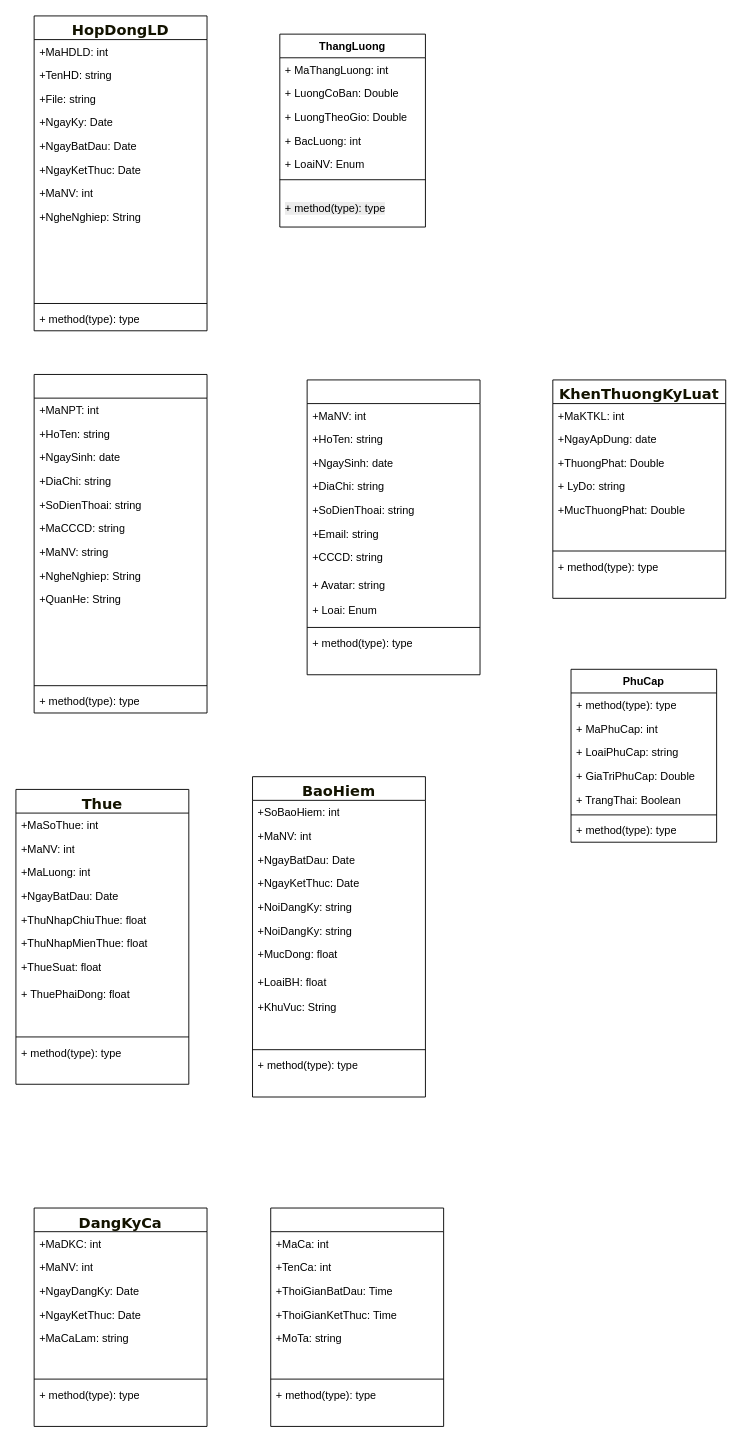
Some shapes in this 742 by 1442 pixel diagram are drawn without their labels. The shapes that lost their labels are listed below. From the top down, each one's box as (x1, y1, x2, y2) in pixels, then its label:
(33, 374, 207, 713): NguoiPhuThuoc
(306, 379, 480, 675): NhanVien
(270, 1207, 444, 1426): Ca
